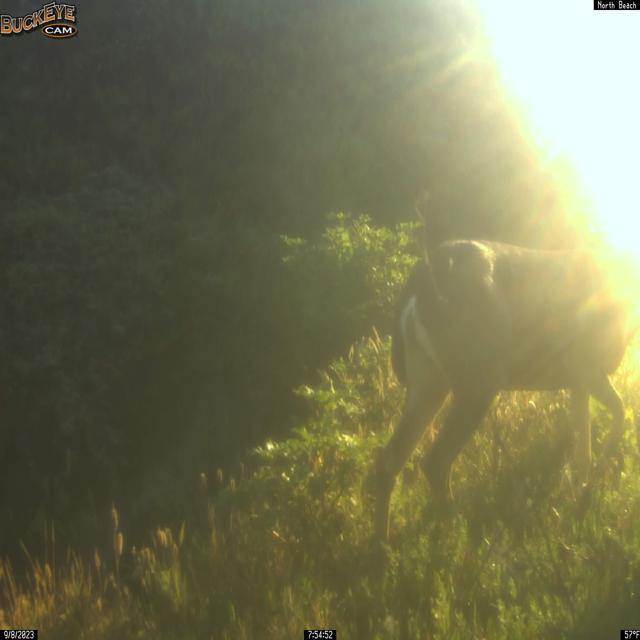deer: (372, 186, 640, 553)
